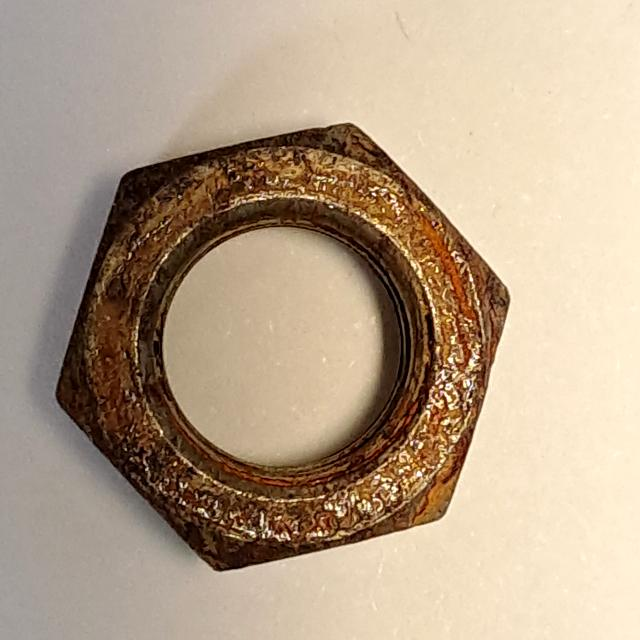Rust: (40, 113, 530, 584)
